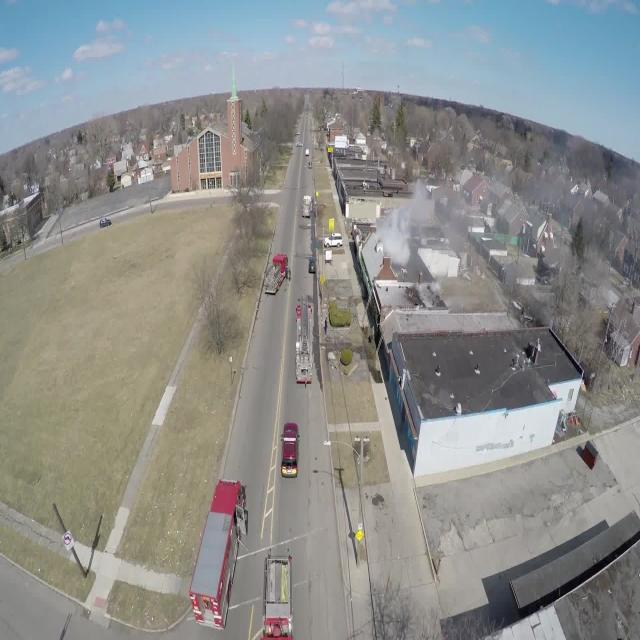Smoke: (374, 174, 450, 266)
